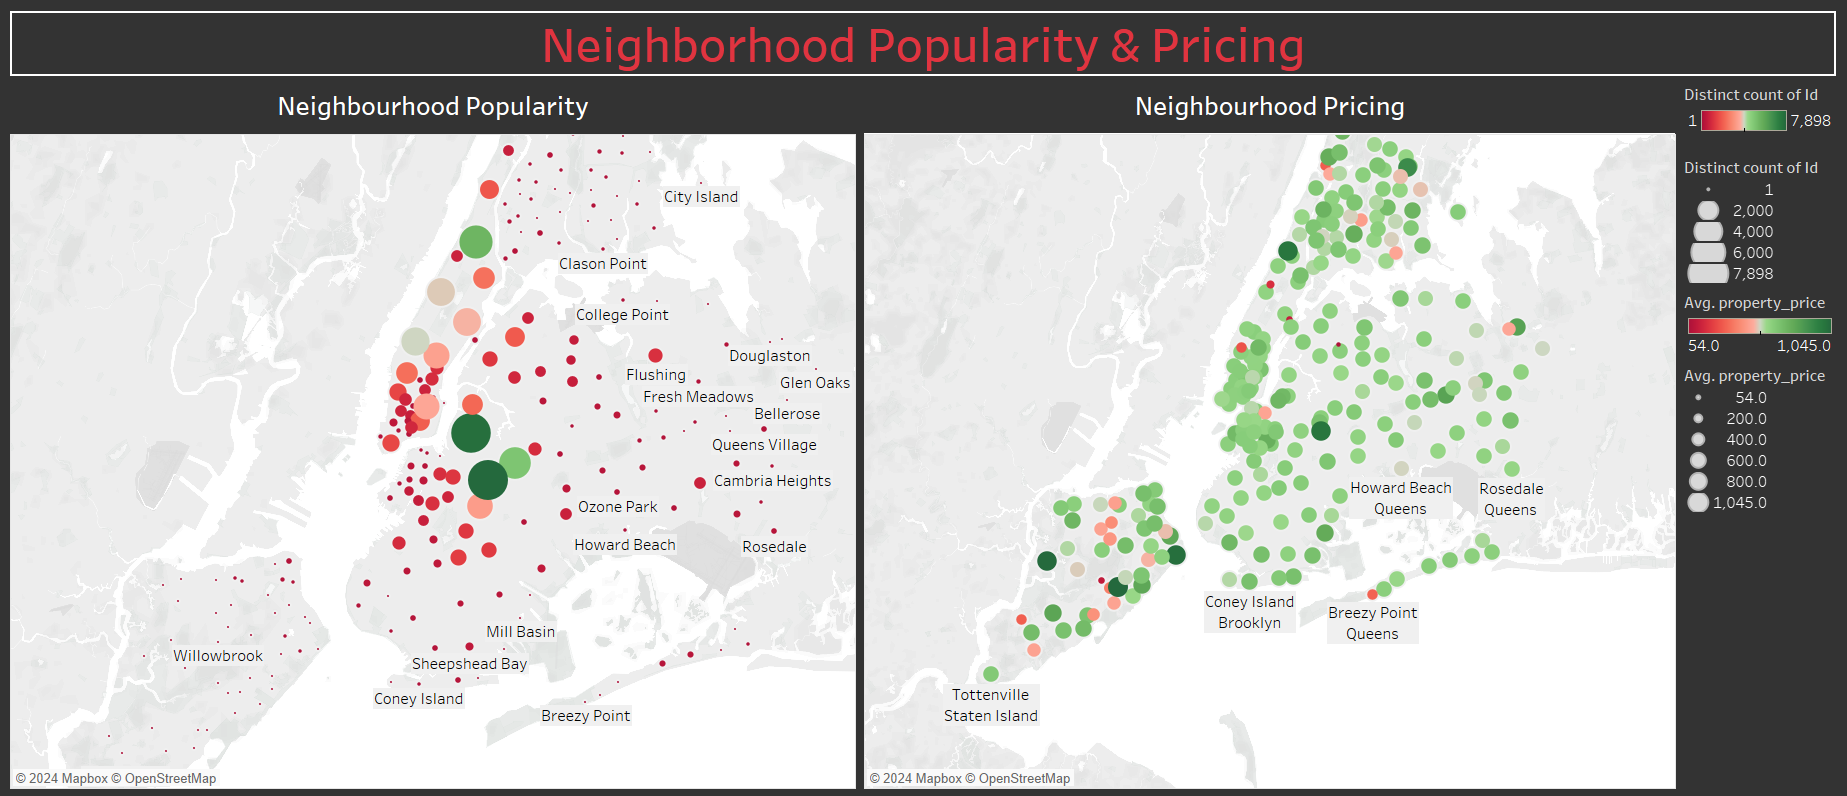

Layout of this report page (visuals, bound fields, positions):
{"tool":"tableau","page":{"name":"Dashboard 1","canvas":[1000,1000],"units":"permille","ordinal":0},"visuals":[{"type":"title","box":[4.3,10,991.4,91]},{"type":"worksheet","title":"Sheet 9","mark":"Automatic","rows":["lat"],"cols":["long"],"box":[4.3,101,461.6,889]},{"type":"worksheet","title":"Sheet 10","mark":"Automatic","rows":["lat"],"cols":["long"],"box":[465.9,101,443.3,889]},{"type":"legend","title":"Sheet 9","param":"[federated.0m09iuw1bli8uh12t0umq16q7wme].[ctd:id:qk]","box":[909.2,101,86.5,91]},{"type":"legend","title":"Sheet 9","param":"[federated.0m09iuw1bli8uh12t0umq16q7wme].[ctd:id:qk]","box":[909.2,192,86.5,168.3]},{"type":"legend","title":"Sheet 10","param":"[federated.0m09iuw1bli8uh12t0umq16q7wme].[avg:price - Split 2:qk]","box":[909.2,360.4,86.5,91]},{"type":"legend","title":"Sheet 10","param":"[federated.0m09iuw1bli8uh12t0umq16q7wme].[avg:price - Split 2:qk]","box":[909.2,451.4,86.5,194.5]}]}

Visuals, with their boxes on the dashboard's canvas, which has no fixed pixel size, in thousandths of its width and height (x1, y1, x2, y2). These are canvas units, not pixel positions in the 1847x796 screenshot, which may show the page scaled, cropped or inside an application window:
title: bbox=(4, 10, 996, 101)
"Sheet 9" worksheet: bbox=(4, 101, 466, 990)
"Sheet 10" worksheet: bbox=(466, 101, 909, 990)
"Sheet 9" legend: bbox=(909, 101, 996, 192)
"Sheet 9" legend: bbox=(909, 192, 996, 360)
"Sheet 10" legend: bbox=(909, 360, 996, 451)
"Sheet 10" legend: bbox=(909, 451, 996, 646)
